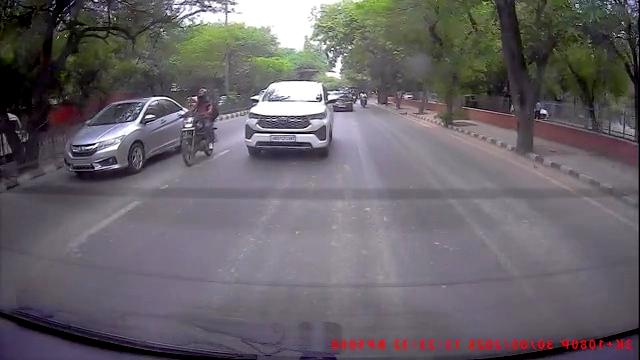motorcycle_with_helmet: (178, 85, 219, 168)
